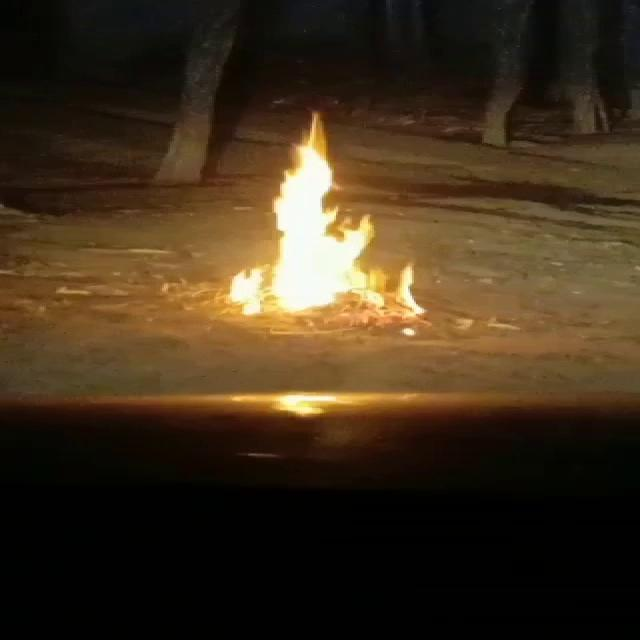Fire: (230, 112, 424, 332)
